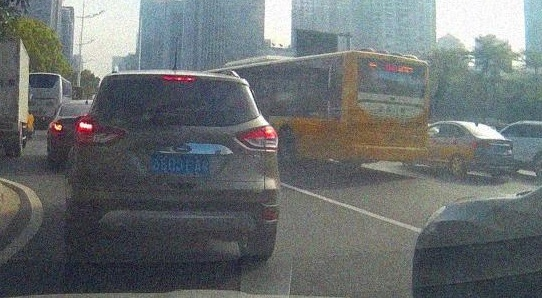L_light: (74, 115, 127, 147), (344, 121, 357, 141)
R_light: (231, 123, 278, 153), (417, 119, 428, 141)
T_light: (162, 75, 197, 82), (383, 90, 403, 95)
day-left: (66, 69, 280, 260)
day-no: (342, 49, 430, 175)
